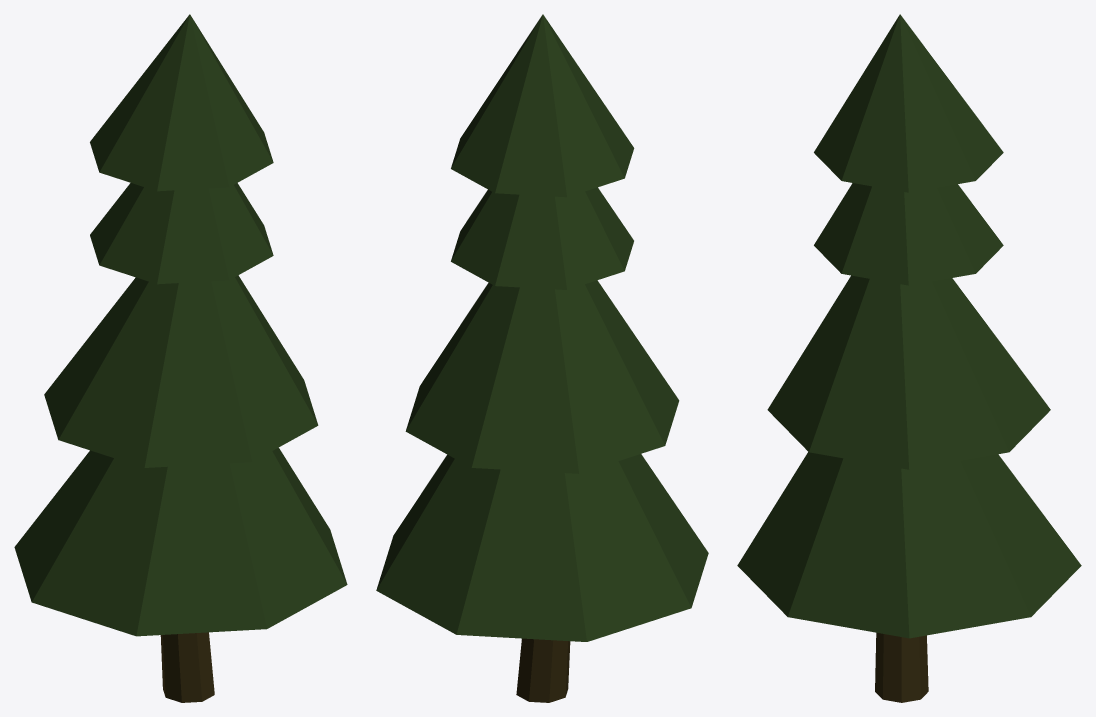
The model's file is pinetree.glb.
3 views of the same model, side by side, from view 1: azimuth 30°, elevation 25°; view 2: azimuth 150°, elevation 25°; view 3: azimuth 270°, elevation 25° (orthographic).
Parts seen in each view (by area): view 1: Cylinder; view 2: Cylinder; view 3: Cylinder.
Part boxes in pixels (bbox=[...]): Cylinder: bbox=[14, 14, 347, 702]; Cylinder: bbox=[376, 14, 708, 702]; Cylinder: bbox=[737, 14, 1081, 702].
Bounding box in the file's own units: 11.59 × 25.18 × 11.59.
